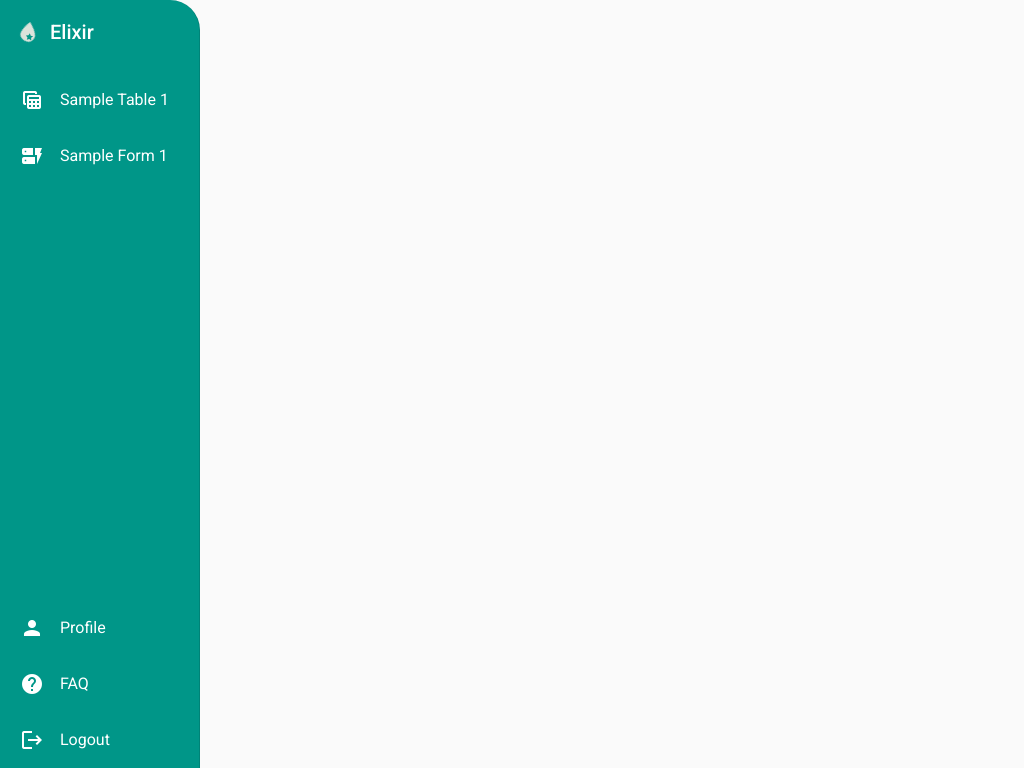
Frame Test › Loads the sample form when selected
Click the link "Sample Form 1" at (94,156), box [20,144,168,168]
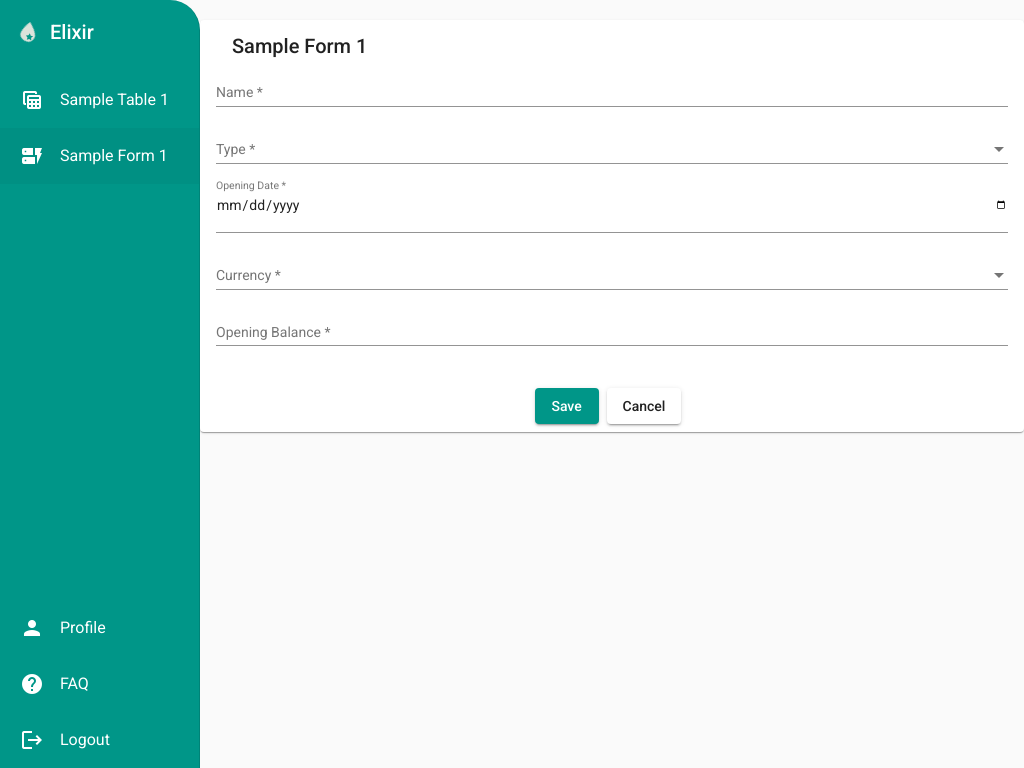
Expected: the form is shown, [200,20,1023,432]
